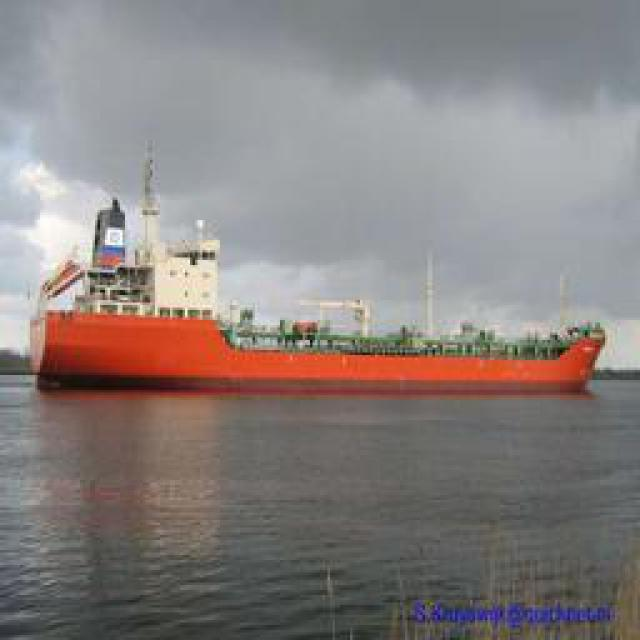Ship: (33, 306, 611, 389)
